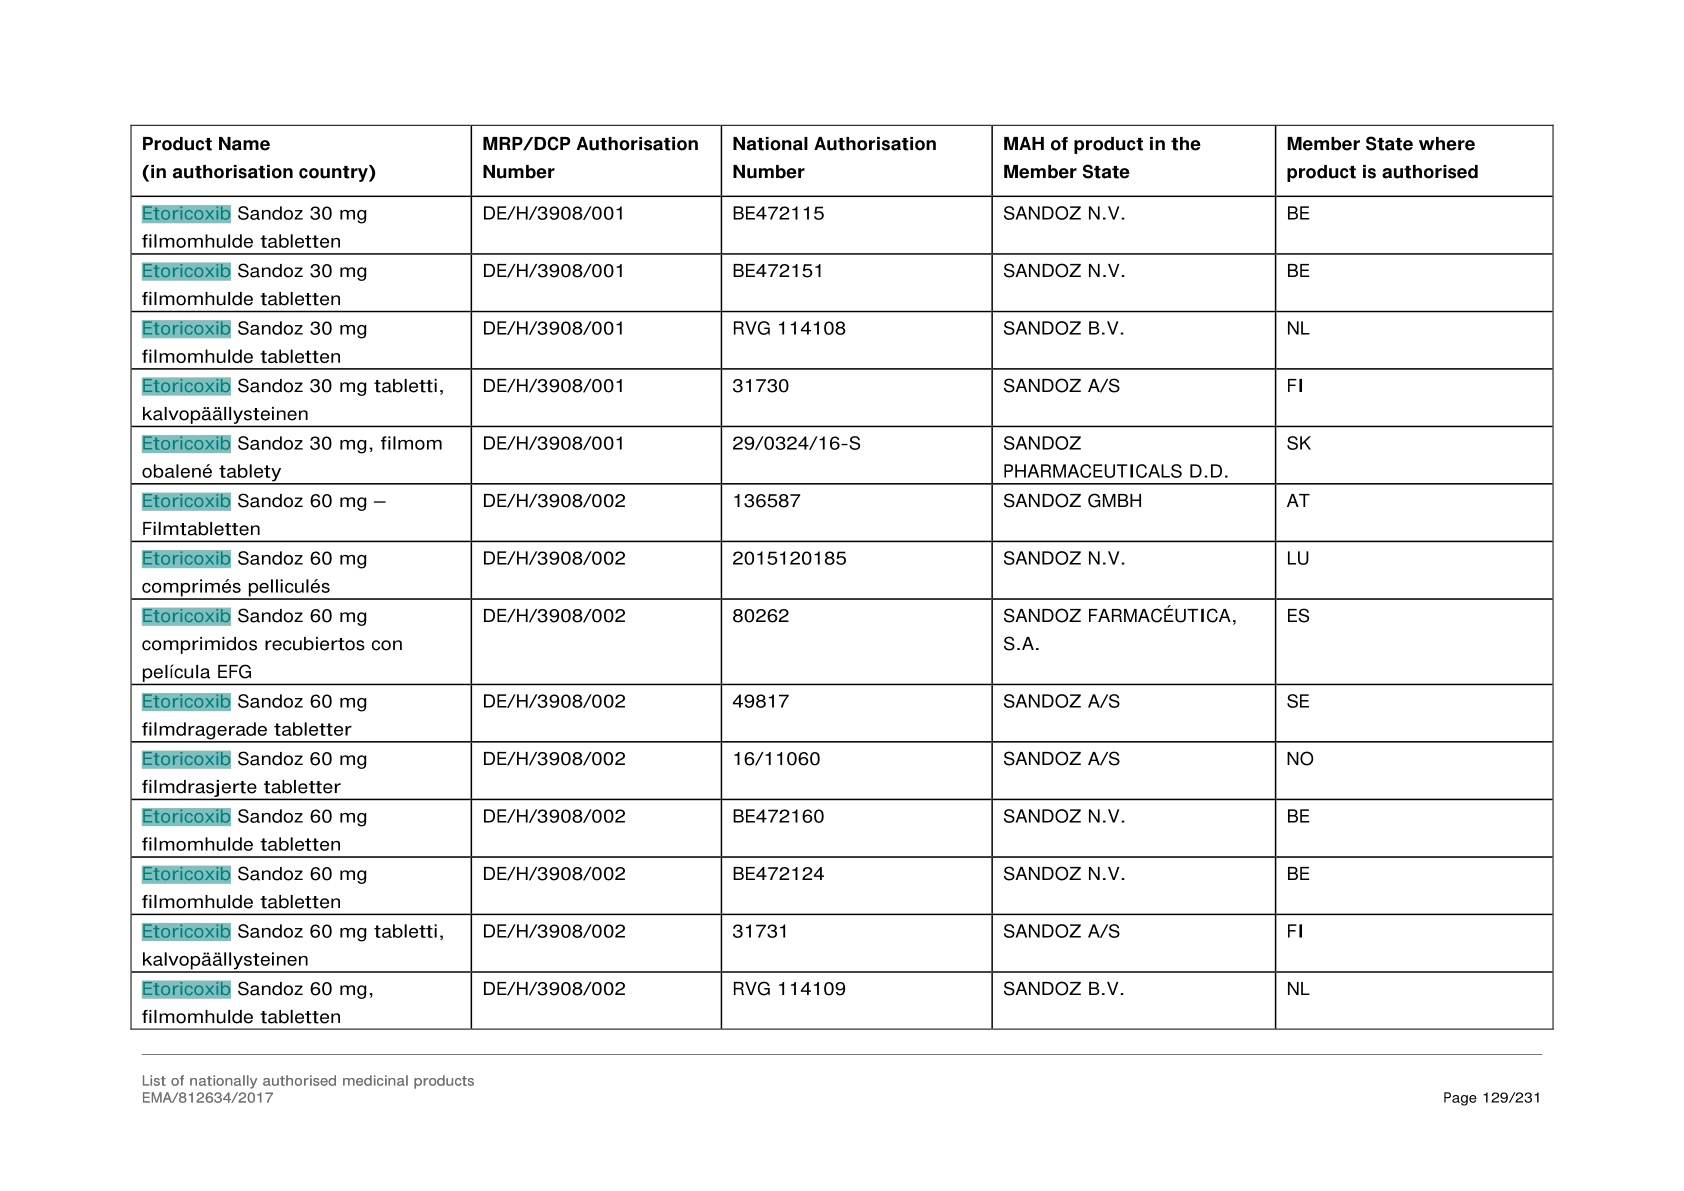full_lined: (130, 124, 1554, 1030)
